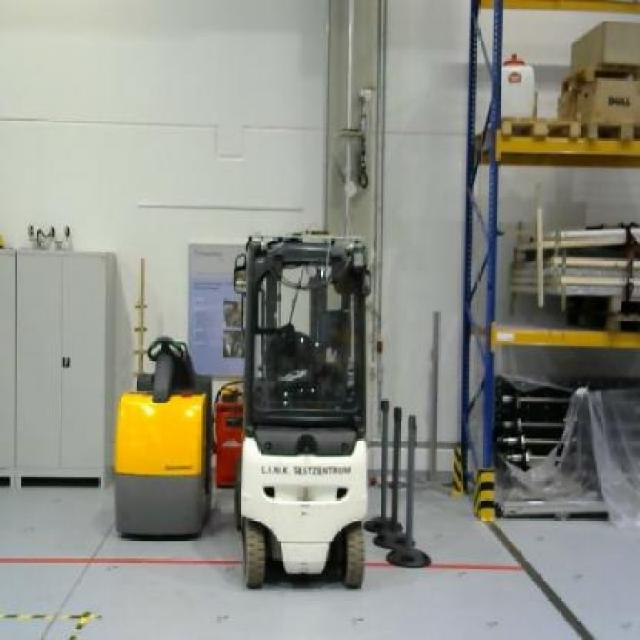box: (553, 78, 639, 126), (570, 20, 639, 74)
